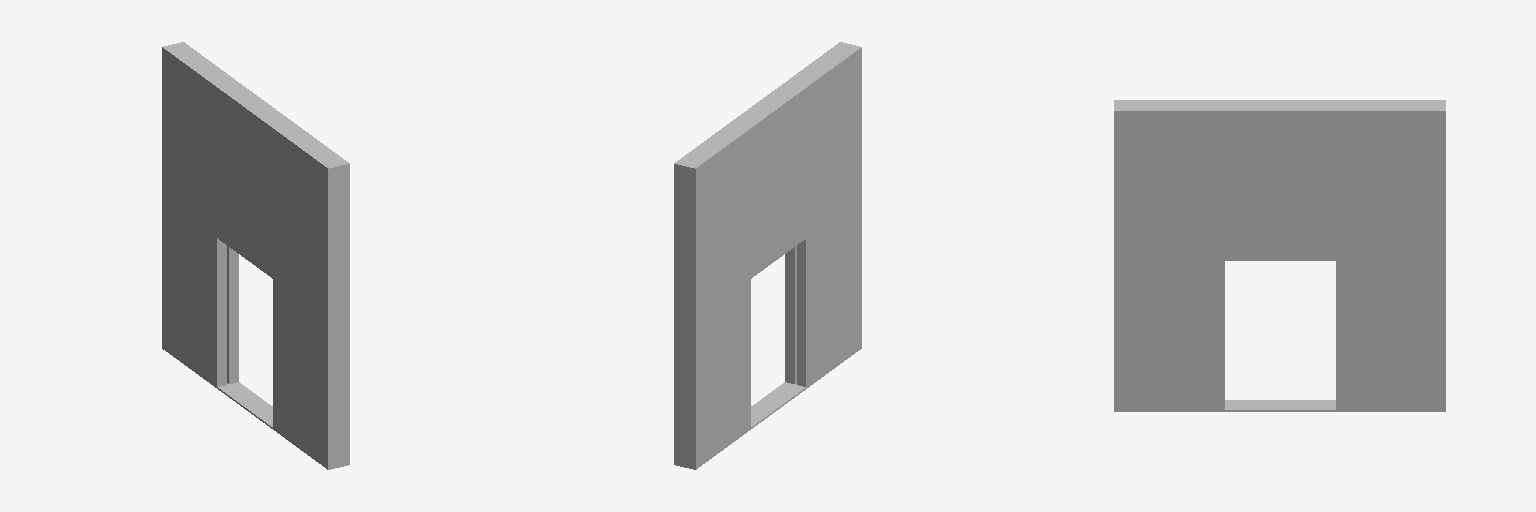
File: Arch_Doorway.obj
3 renders of one model, left to right at view 1: azimuth 30°, elevation 25°; view 2: azimuth 150°, elevation 25°; view 3: azimuth 270°, elevation 25°, orthographic.
Visible parts, largest first — view 1: wall_door; view 2: wall_door; view 3: wall_door.
Part boxes in pixels (x1,y1,x2,y2): wall_door: (162, 42, 349, 469); wall_door: (674, 42, 861, 469); wall_door: (1114, 100, 1445, 411).
Size of the model in its own units: 0.1792 by 2.4 by 2.4.